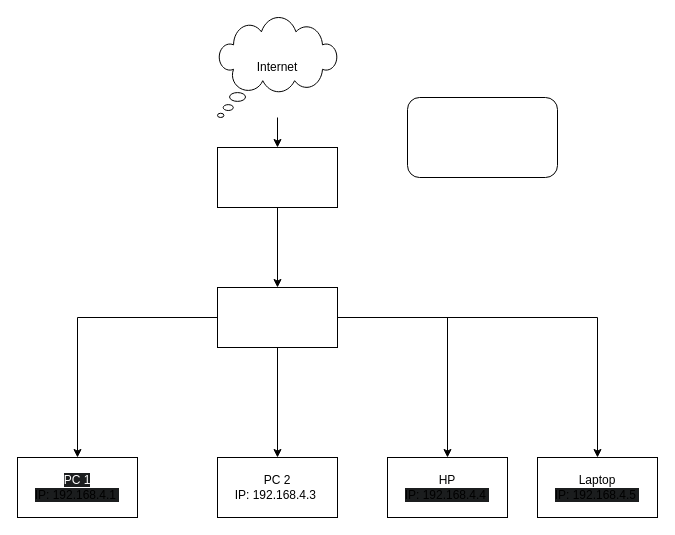
The diagram is 675 pixels wide and 535 high, and some of its shapes have lost their labels. Here are the shapes that lost their labels. From the top down, the box of each, then its label:
(406, 96, 558, 178): Keterangan CIDR Block : 192.168.4.0/24
(216, 146, 338, 208): Router/Modem Kelas C IP: 192.168.4.1
(216, 286, 338, 348): Switch
